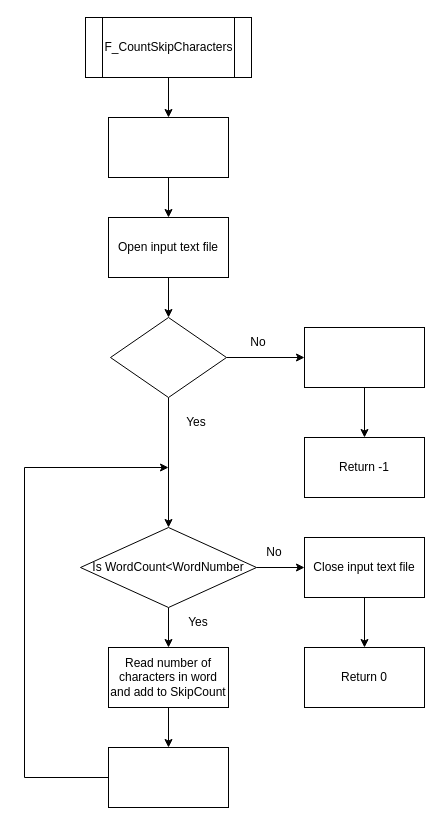
This 442x825 diagram has some shape labels left out. The shapes that lost their labels are listed below. From the top down, each one's centre as x and y in pixels, then its label:
the point at 168,147: SkipCount = 0
the point at 168,357: Can file be read?
the point at 364,357: Print error
the point at 168,777: WordCount++
